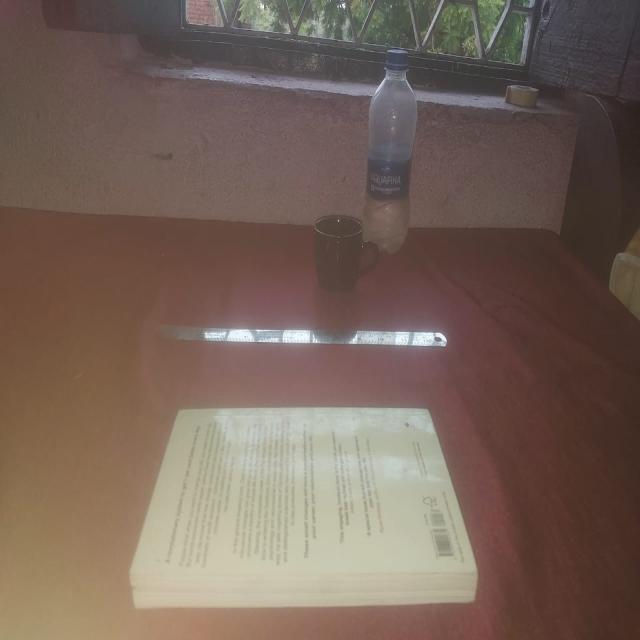Book: (127, 404, 480, 608)
Bottle: (358, 44, 432, 251)
Cup: (282, 210, 385, 287)
scale: (152, 314, 465, 352)
